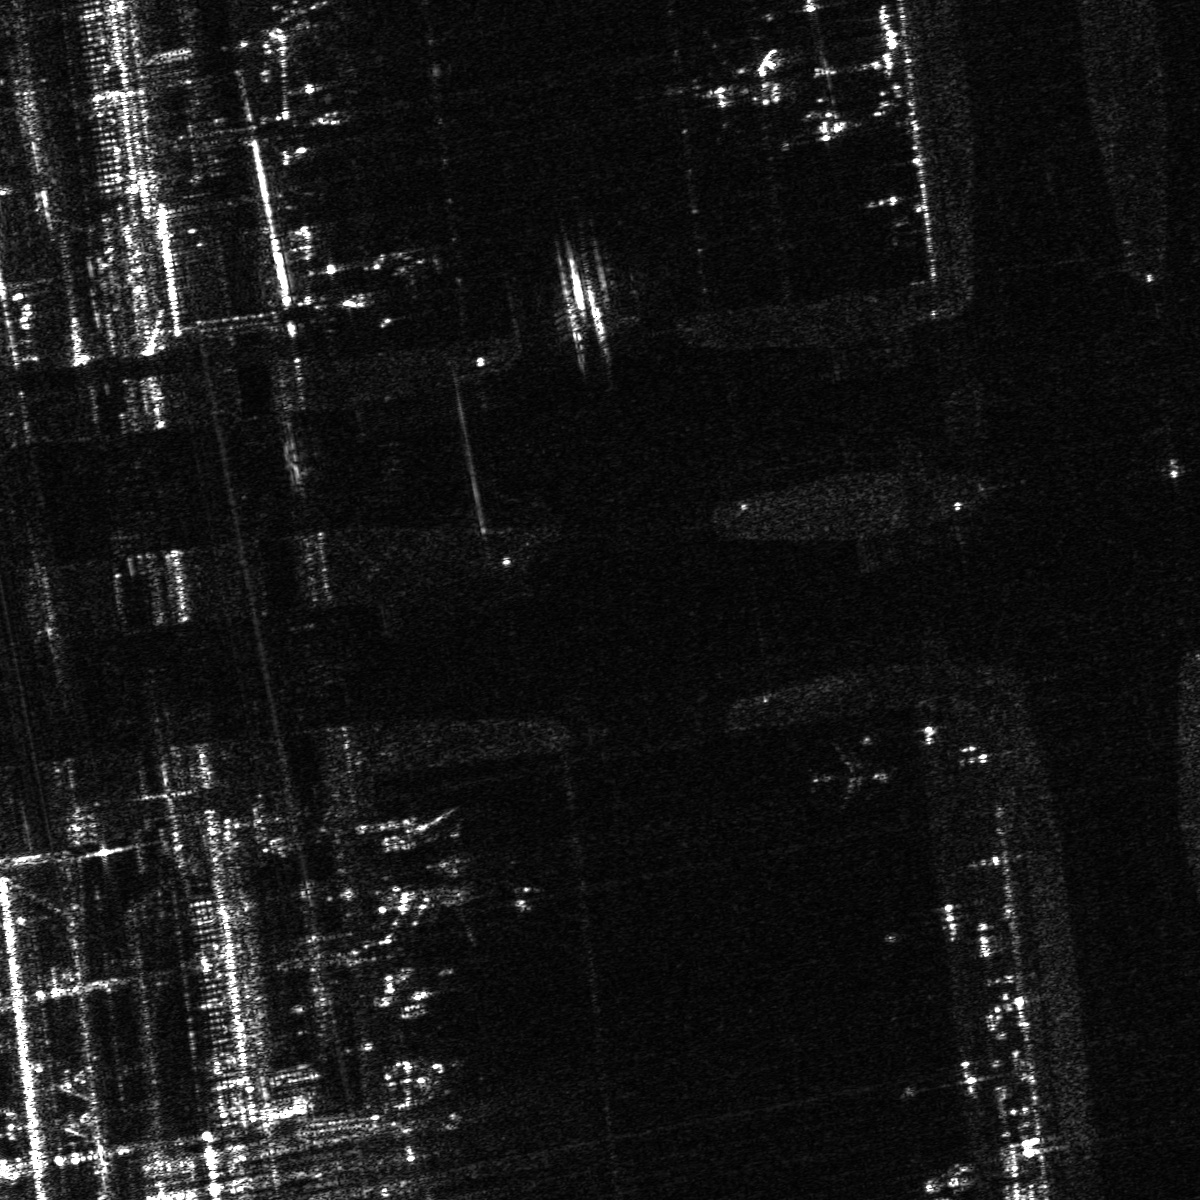Boeing737: (800, 740, 895, 813)
